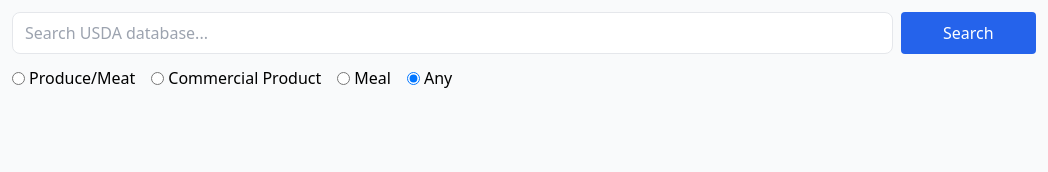
IngredientSearch › validation › clears the error when user starts typing
Click the button "Search": point(968, 33) [901,12,1036,54]
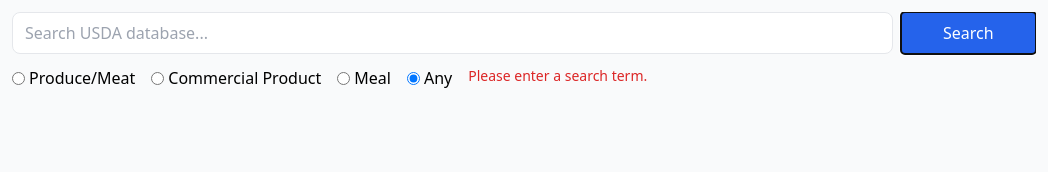
Expected: the text "Please enter a search term." is shown, [468,66,647,90]
In the field with placeholder "Search USDA database...": point(452, 33) [12,12,893,54], type "c"
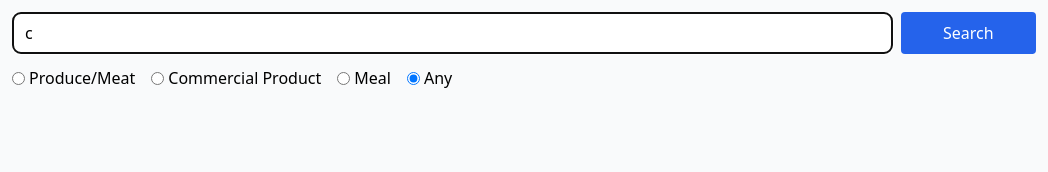
Expected: the text "Please enter a search term." is gone
